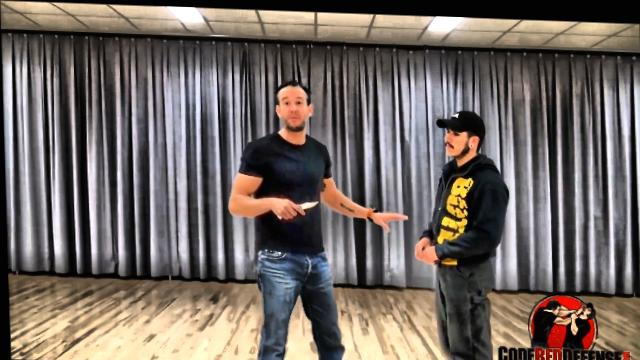knife: (273, 192, 320, 221)
